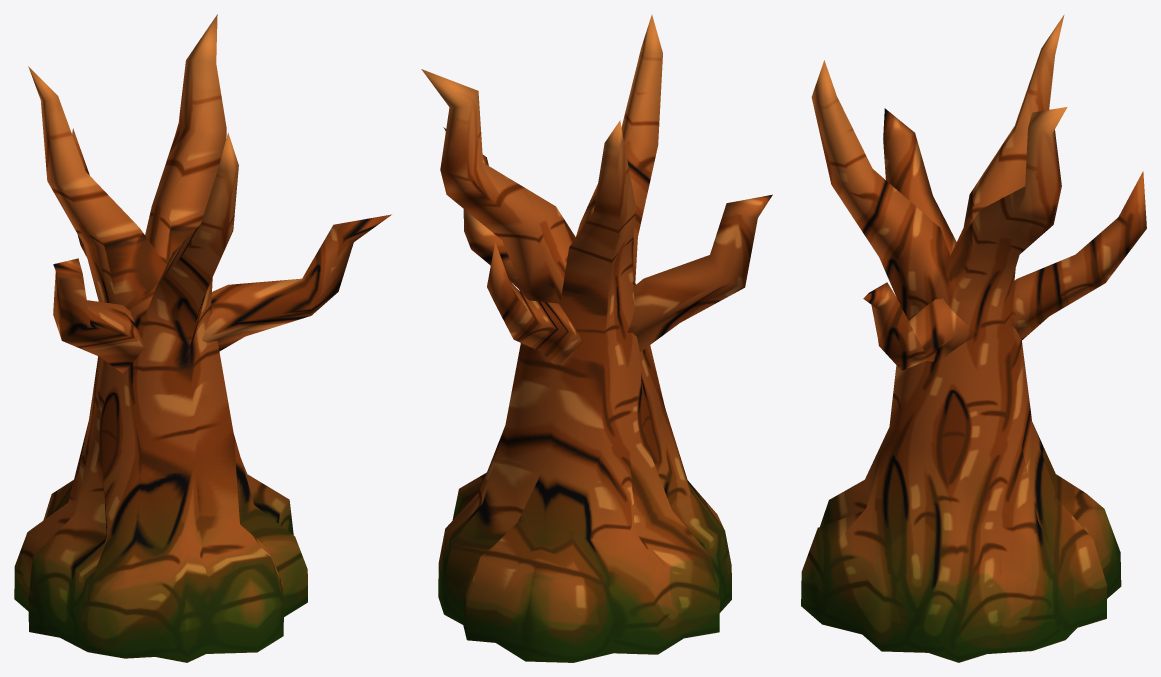
Rendered from OakTree.fbx.
The picture shows the model from 3 angles, left to right: view 1: azimuth 30°, elevation 25°; view 2: azimuth 150°, elevation 25°; view 3: azimuth 270°, elevation 25°; orthographic projection. The views are drawn at different scales.
Visible parts, largest first — view 1: OakTree_Trunk_Outline, OakTree_Branches_Outline; view 2: OakTree_Trunk_Outline, OakTree_Branches_Outline; view 3: OakTree_Trunk_Outline, OakTree_Branches_Outline.
Part boxes in pixels (x1=…): OakTree_Trunk_Outline: x1=14, y1=14, x2=307, y2=662; OakTree_Branches_Outline: x1=53, y1=128, x2=391, y2=373; OakTree_Trunk_Outline: x1=421, y1=14, x2=731, y2=662; OakTree_Branches_Outline: x1=443, y1=127, x2=772, y2=366; OakTree_Trunk_Outline: x1=801, y1=14, x2=1121, y2=662; OakTree_Branches_Outline: x1=863, y1=108, x2=1146, y2=370.
Bounding box in the file's own units: 133 × 202 × 116.
